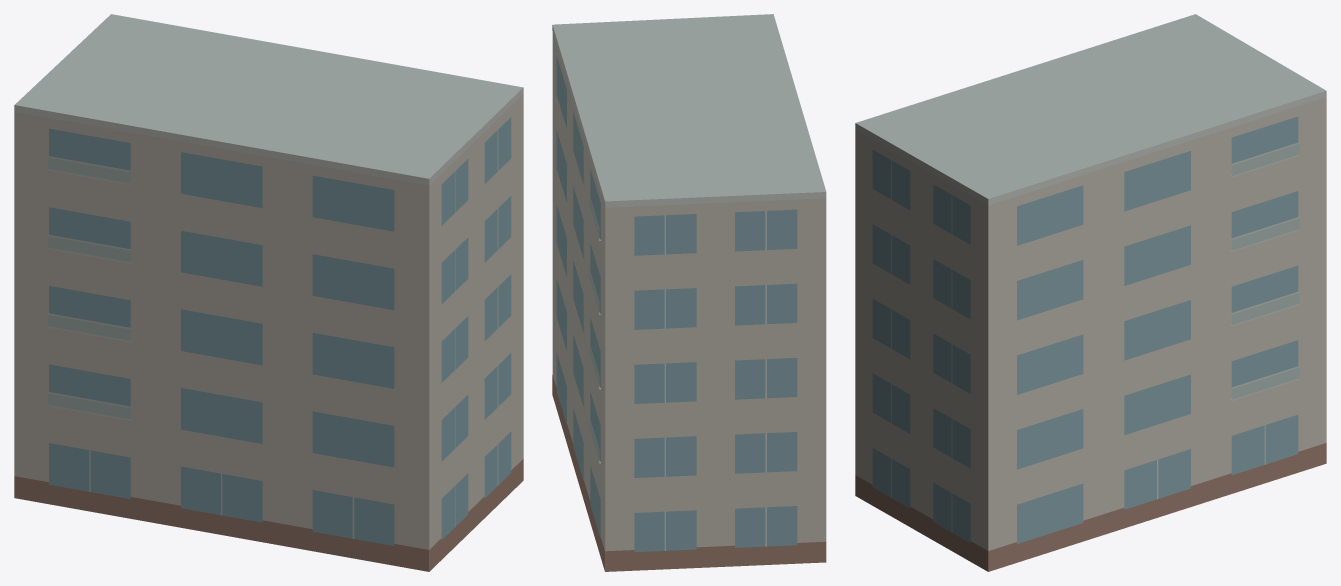
The model's file is survey-upis-32590968.glb.
3 views of the same model, side by side, from view 1: azimuth 30°, elevation 25°; view 2: azimuth 150°, elevation 25°; view 3: azimuth 270°, elevation 25° (orthographic). The views are drawn at different scales.
Parts seen in each view (by area): view 1: survey-upis-32590968.tmp; view 2: survey-upis-32590968.tmp; view 3: survey-upis-32590968.tmp.
Boxes of the visible parts, left/top/right/bottom form: survey-upis-32590968.tmp: left=14, top=14, right=523, bottom=571; survey-upis-32590968.tmp: left=552, top=14, right=826, bottom=571; survey-upis-32590968.tmp: left=855, top=14, right=1326, bottom=571.
Size of the model in its own units: 15.34 by 14.4 by 16.5.
